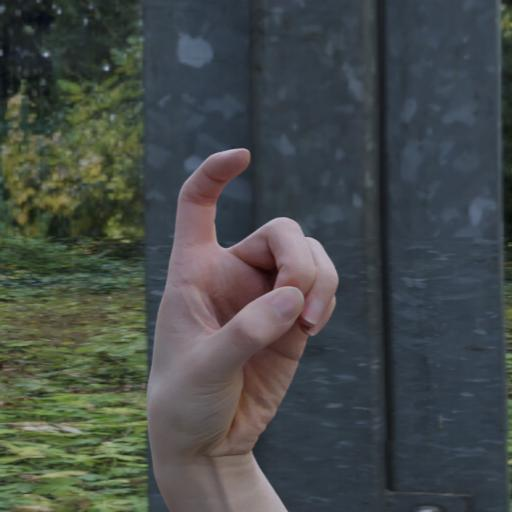X: (137, 139, 346, 470)
